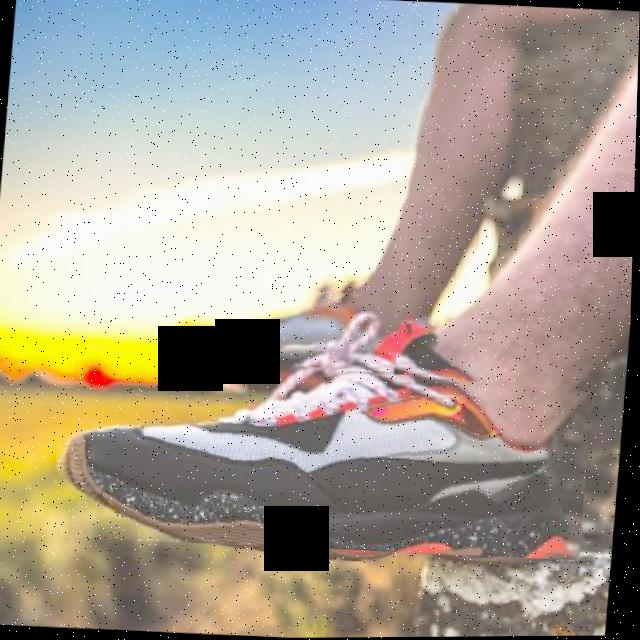shoe: (55, 341, 598, 565), (179, 278, 407, 384)
